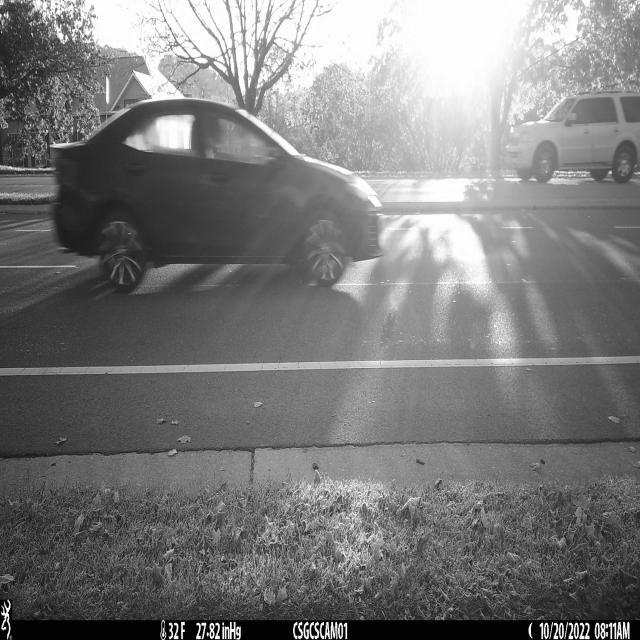SUV: (505, 89, 640, 183)
Sedan: (51, 98, 383, 295)
